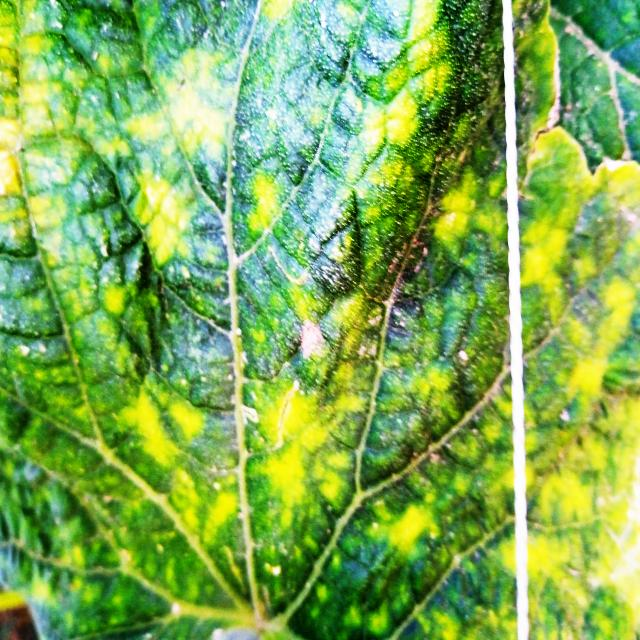Downy-Mildew: (1, 0, 640, 640)
